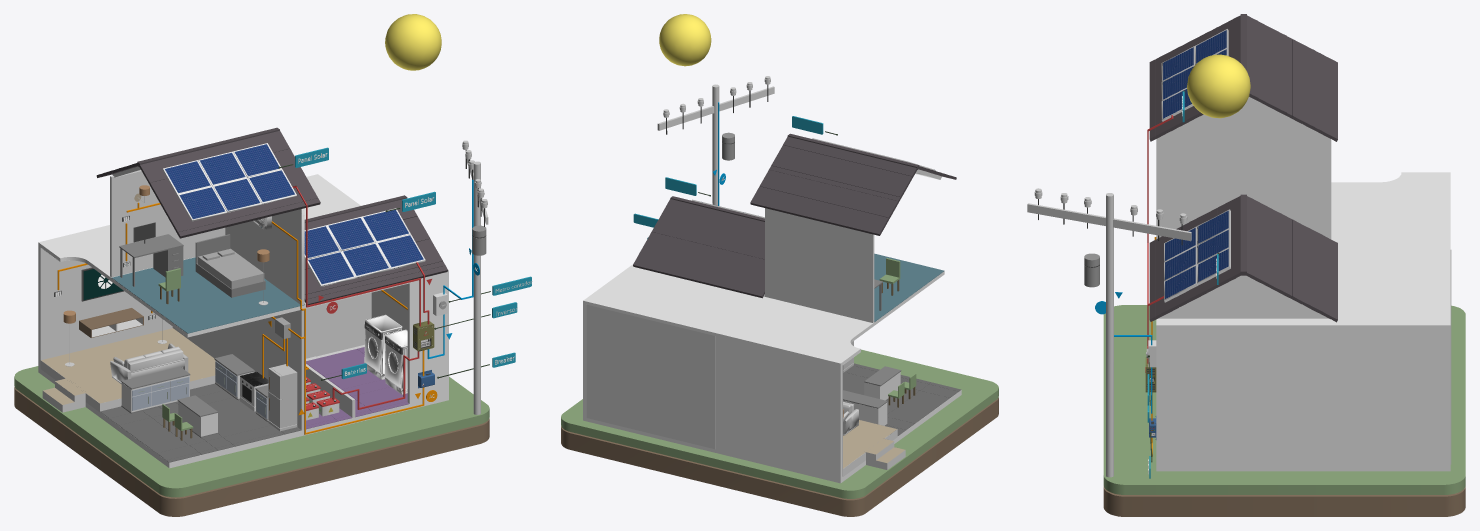
Rendered from solar_house.glb.
The picture shows the model from 3 angles, left to right: view 1: azimuth 30°, elevation 25°; view 2: azimuth 150°, elevation 25°; view 3: azimuth 270°, elevation 25°; orthographic projection. The views are drawn at different scales.
Parts seen in each view (by area): view 1: Cube_1_4_2, Cube_13_4_1, Cube_1_3_2_2.001, Cube_42_4_1, Cube_9_5_1, Cube_1_4_1, Cube_11_8_1, Cube_2_8_1, Cube_7_2_2, Cube_14_11_1, Cube_2_9_1, Cube_13_8_1 (+11 smaller); view 2: Cube_1_4_1, Cube_1_4_2, Cube_42_4_1, Cube_13_4_1, Cube_9_5_1, Cube_11_8_1, Sphere_8_1, Cube_2_8_1, Cube_1_1, Cube_7_2_2, Cube_13_7_1, Cube_6_1 (+2 smaller); view 3: Cube_1_4_1, Cube_42_4_1, Cube_13_4_1, Cube_9_5_1, Cube_1_3_2_2.001, Cube_1_1, Sphere_8_1, Cube_2_9_1, Cube_29_7_1, Cylinder_7_2_1.
Part boxes in pixels (<box>): Cube_1_4_2: <box>40,166,409,430</box>; Cube_13_4_1: <box>14,268,489,497</box>; Cube_1_3_2_2.001: <box>165,144,423,284</box>; Cube_42_4_1: <box>96,127,447,305</box>; Cube_9_5_1: <box>14,308,489,516</box>; Cube_1_4_1: <box>38,174,448,468</box>; Cube_11_8_1: <box>100,383,301,462</box>; Cube_2_8_1: <box>112,257,304,333</box>; Cube_7_2_2: <box>41,193,215,404</box>; Cube_14_11_1: <box>119,234,268,437</box>; Cube_2_9_1: <box>55,143,447,420</box>; Cube_13_8_1: <box>110,343,297,431</box>; Cube_1_4_1: <box>583,264,961,483</box>; Cube_1_4_2: <box>586,169,941,476</box>; Cube_42_4_1: <box>633,133,956,298</box>; Cube_13_4_1: <box>561,258,998,498</box>; Cube_9_5_1: <box>561,397,998,516</box>; Cube_11_8_1: <box>843,363,961,435</box>; Sphere_8_1: <box>659,14,711,66</box>; Cube_2_8_1: <box>874,253,944,321</box>; Cube_1_1: <box>657,76,774,205</box>; Cube_7_2_2: <box>843,420,904,468</box>; Cube_13_7_1: <box>843,372,900,425</box>; Cube_6_1: <box>633,116,823,238</box>; Cube_1_4_1: <box>1156,97,1450,471</box>; Cube_42_4_1: <box>1149,14,1337,322</box>; Cube_13_4_1: <box>1103,305,1465,494</box>; Cube_9_5_1: <box>1103,486,1465,516</box>; Cube_1_3_2_2.001: <box>1163,30,1228,298</box>; Cube_1_1: <box>1027,188,1191,477</box>; Sphere_8_1: <box>1187,54,1250,118</box>; Cube_2_9_1: <box>1148,29,1230,435</box>; Cube_29_7_1: <box>1145,115,1173,428</box>; Cylinder_7_2_1: <box>1084,253,1099,287</box>.
Size of the model in its own units: 348 by 343 by 307.
Materials: 71 (5 with a texture image).
